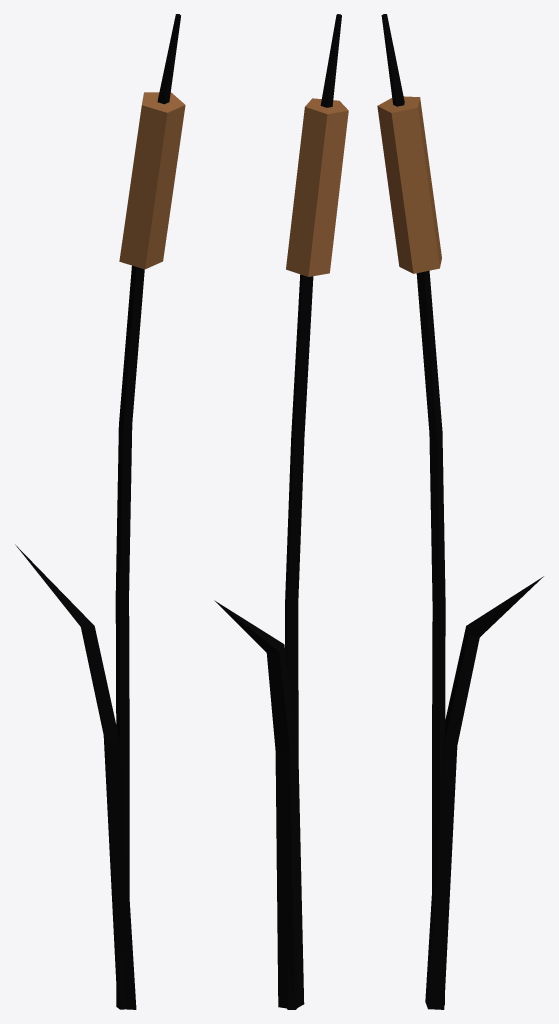
File: Reed_1_Small.fbx
The picture shows the model from 3 angles, left to right: view 1: azimuth 90°, elevation 25°; view 2: azimuth 150°, elevation 25°; view 3: azimuth 270°, elevation 25°; orthographic projection. The views are drawn at different scales.
Visible parts, largest first — view 1: Reed_1_Small; view 2: Reed_1_Small; view 3: Reed_1_Small.
Part boxes in pixels (x1,y1,x2,y2): Reed_1_Small: [15, 14, 185, 1009]; Reed_1_Small: [214, 14, 348, 1009]; Reed_1_Small: [377, 14, 543, 1009].
Size of the model in its own units: 0.0198 by 0.3084 by 0.0477.
